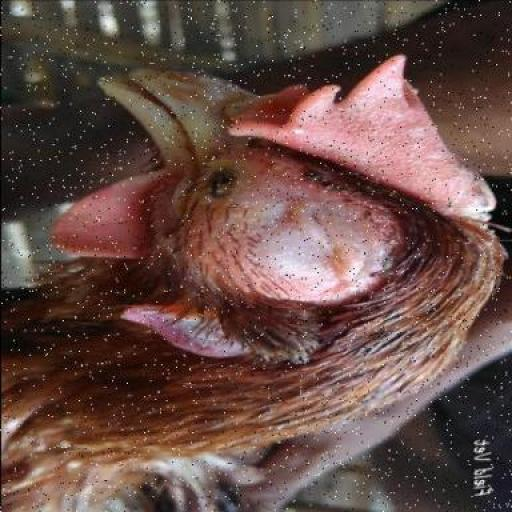disease: (211, 121, 440, 303)
